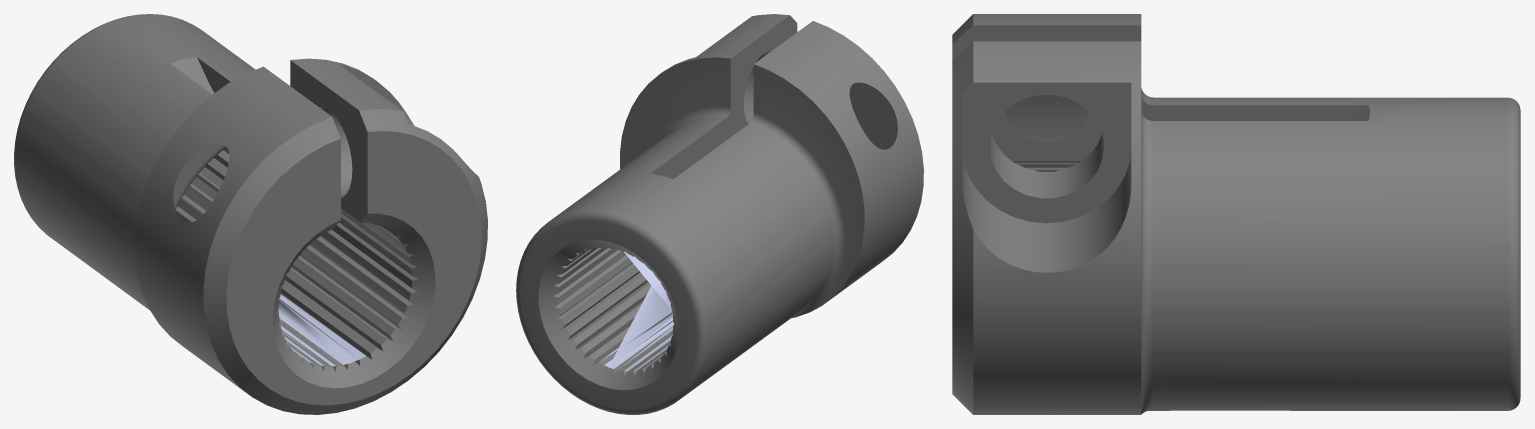
File: UA_26EV_Steering_Column_Mockup__UA_26A_EMP_17_2616_0_0_625in_36_Female_Spline_Clamp_Coupler_1.dae
3 renders of one model, left to right at view 1: azimuth 30°, elevation 25°; view 2: azimuth 150°, elevation 25°; view 3: azimuth 270°, elevation 25°, orthographic. The views are drawn at different scales.
Parts seen in each view (by area): view 1: node0, node1; view 2: node0, node1; view 3: node0.
Boxes of the visible parts, x1,y1,x2,y2 form: node0: [14, 14, 487, 414]; node1: [278, 294, 365, 366]; node0: [516, 14, 923, 414]; node1: [599, 251, 674, 371]; node0: [952, 14, 1520, 414].
Bounding box in the file's own units: 0.032 × 0.0319 × 0.0453.
